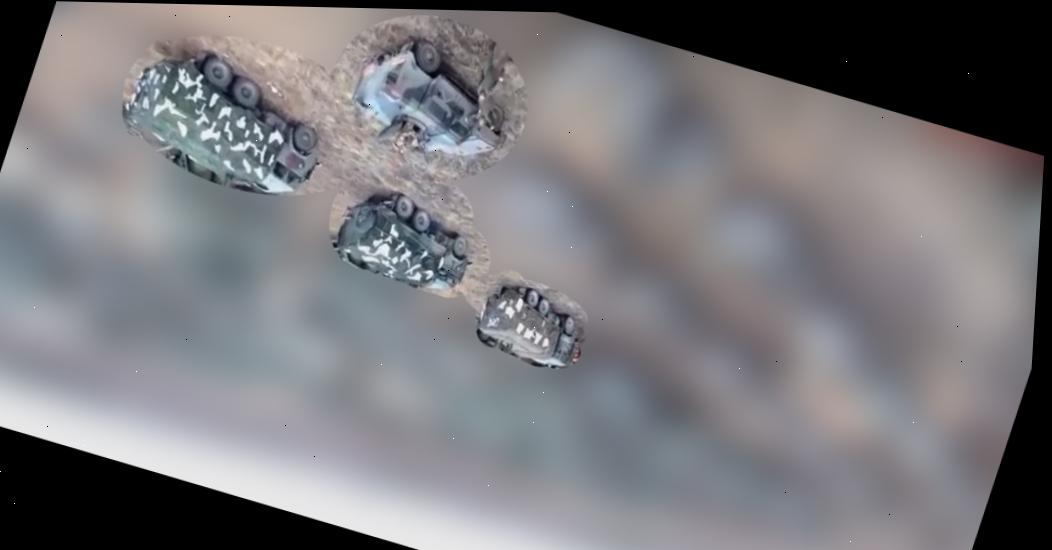armored_car: (338, 21, 528, 169)
truck: (109, 36, 341, 206), (322, 177, 490, 306), (466, 273, 593, 371)
